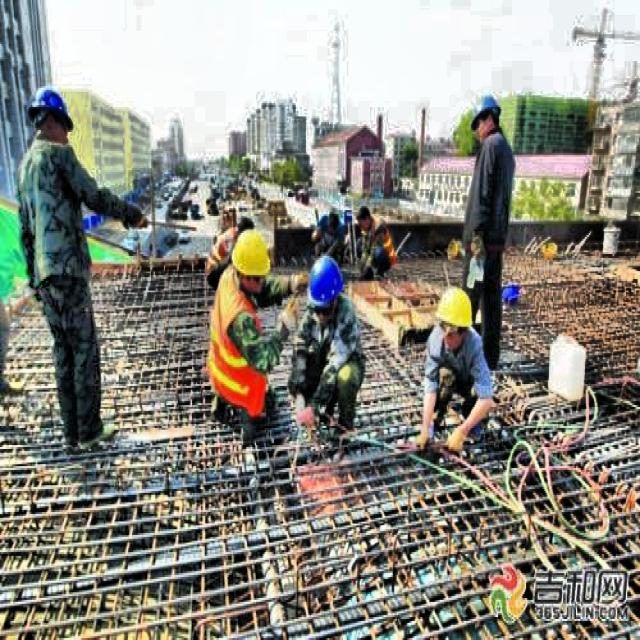helmet: (233, 224, 273, 292), (32, 84, 73, 147), (436, 284, 475, 350), (308, 254, 346, 321), (467, 94, 503, 143)
